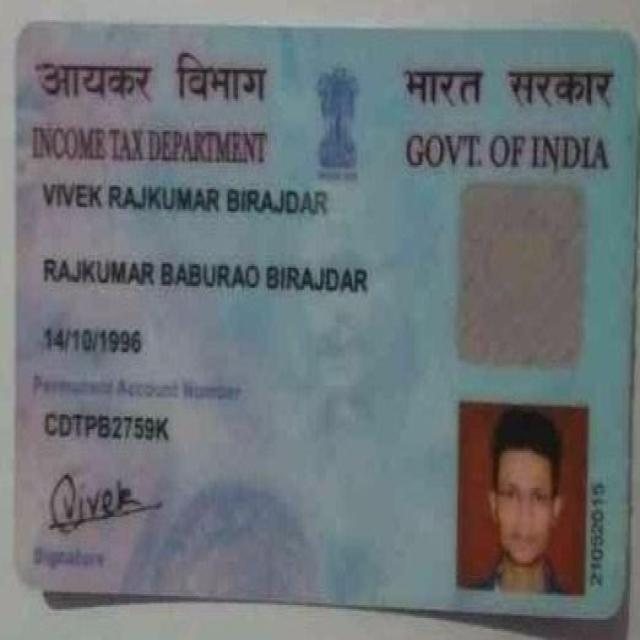pan_card: (15, 25, 633, 612)
